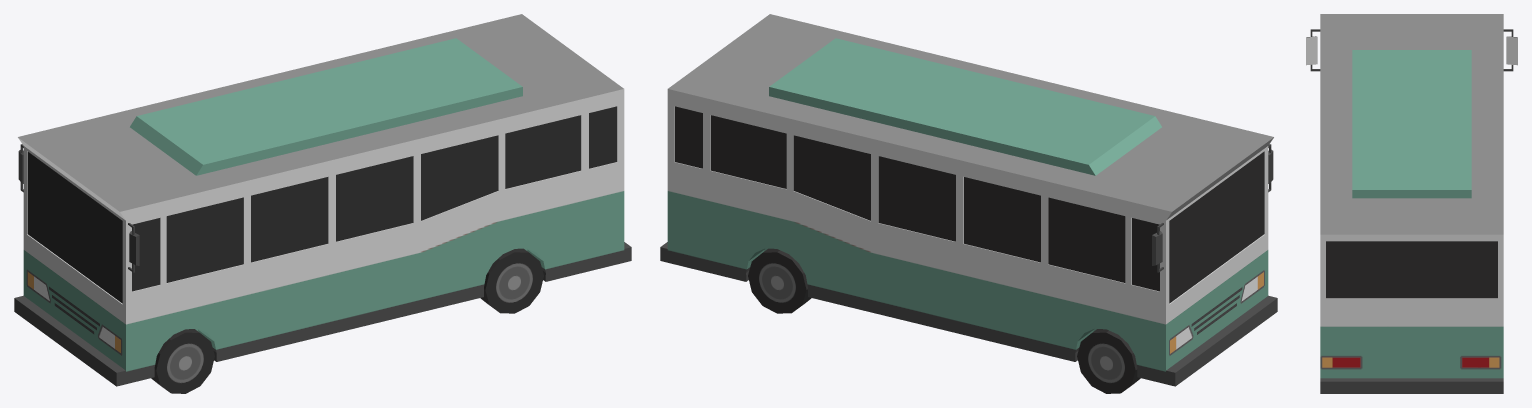
The model's file is bus_2.glb.
3 views of the same model, side by side, from view 1: azimuth 30°, elevation 25°; view 2: azimuth 150°, elevation 25°; view 3: azimuth 270°, elevation 25° (orthographic). The views are drawn at different scales.
Visible parts, largest first — view 1: Vehicle_Bus_color03.007; view 2: Vehicle_Bus_color03.007; view 3: Vehicle_Bus_color03.007.
Boxes of the visible parts, x1,y1,x2,y2 form: Vehicle_Bus_color03.007: (14, 14, 631, 393); Vehicle_Bus_color03.007: (660, 14, 1277, 393); Vehicle_Bus_color03.007: (1306, 14, 1517, 393).
Size of the model in its own units: 9.3 by 3.58 by 3.69.
1 material, 1 textured.
